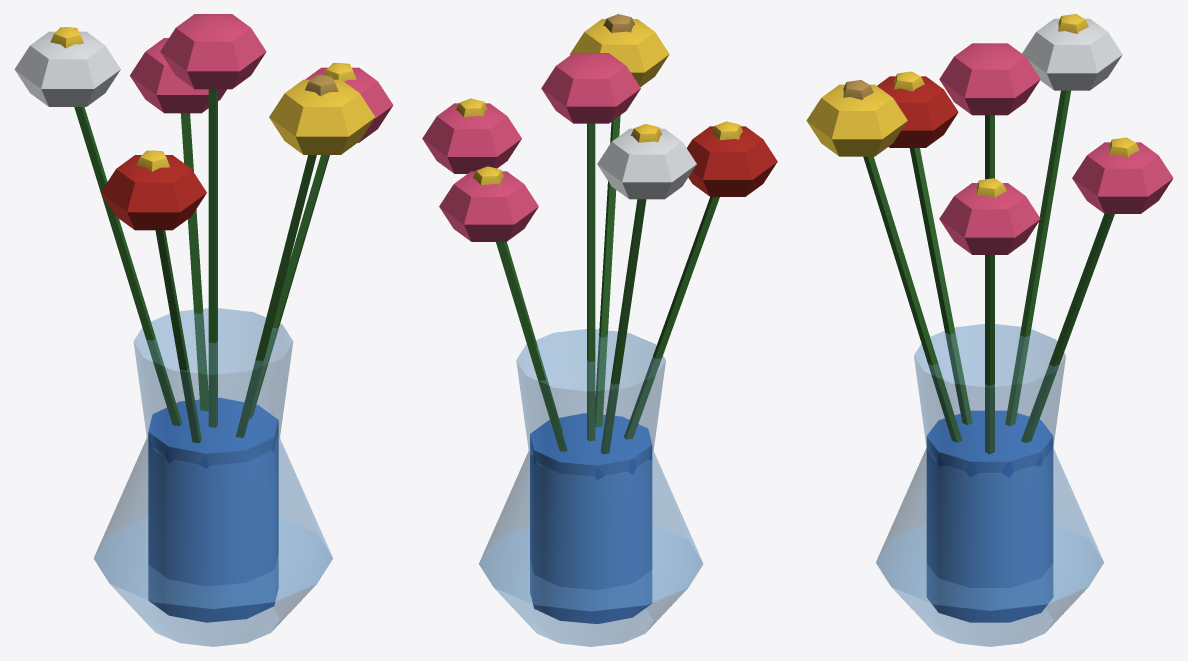
The model's file is plant_flower_vase.glb.
The picture shows the model from 3 angles, left to right: view 1: azimuth 30°, elevation 25°; view 2: azimuth 150°, elevation 25°; view 3: azimuth 270°, elevation 25°; orthographic projection. The views are drawn at different scales.
Parts seen in each view (by area): view 1: plant_flower_vase; view 2: plant_flower_vase; view 3: plant_flower_vase.
Boxes of the visible parts, x1,y1,x2,y2 form: plant_flower_vase: (14, 14, 393, 646); plant_flower_vase: (422, 14, 777, 646); plant_flower_vase: (806, 14, 1173, 646).
Size of the model in its own units: 0.2683 by 0.498 by 0.2892.
